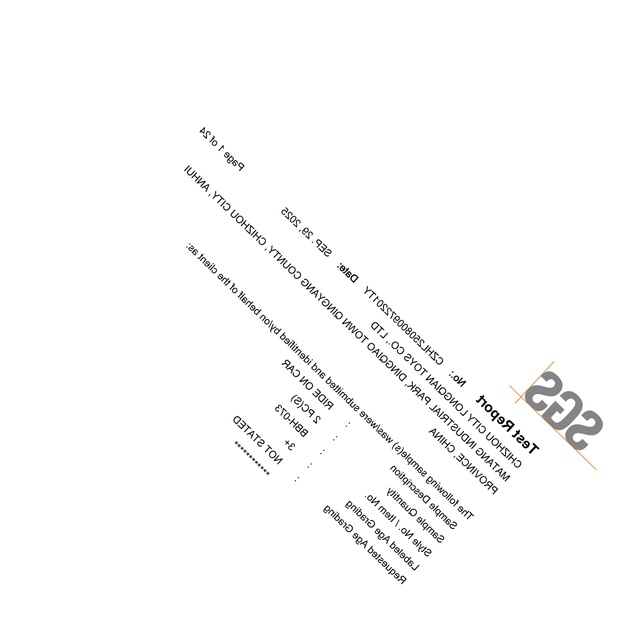sgs: (524, 371, 603, 451)
